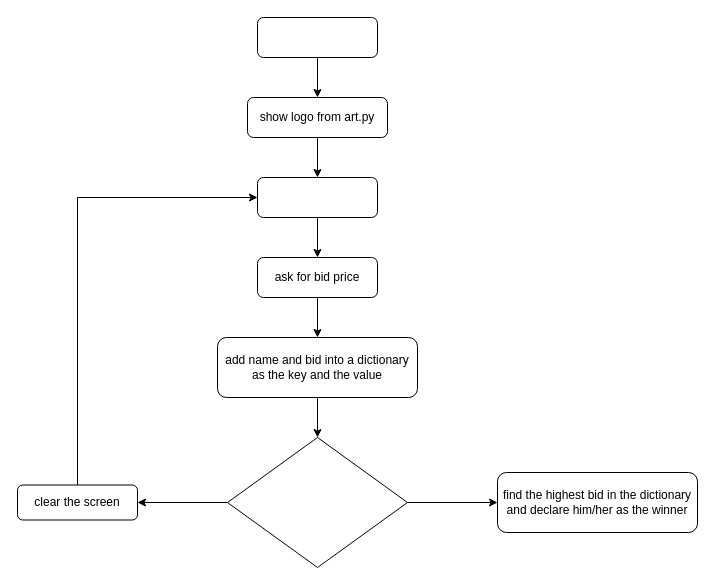
Some shapes in this 715 by 585 pixel diagram are drawn without their labels. The shapes that lost their labels are listed below. From the top down, each one's centre as x and y in pixels, then its label:
At (317,37): "start program".
At (317,197): "ask for name input".
At (317,502): "ask if there are other users who want ot bid".
